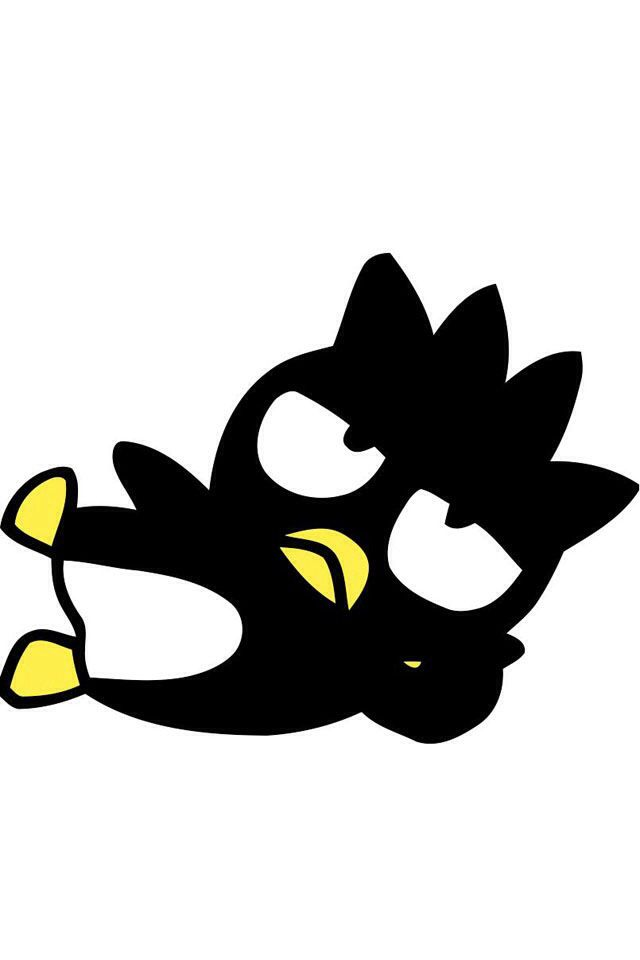batsumaru: (1, 252, 638, 741)
